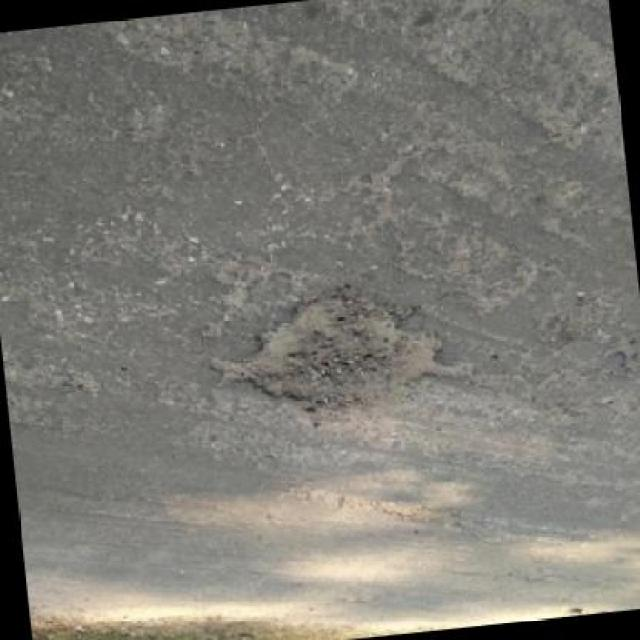pothole1: (200, 277, 480, 428)
